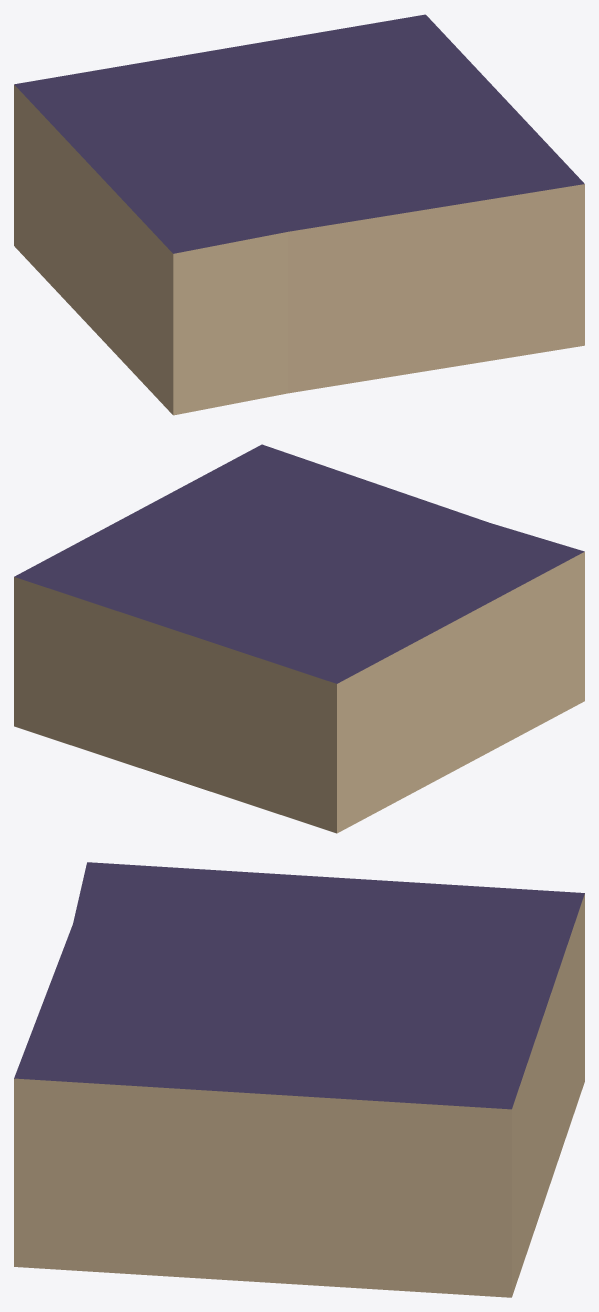
3 renders of one model, top to bottom at view 1: azimuth 30°, elevation 25°; view 2: azimuth 150°, elevation 25°; view 3: azimuth 270°, elevation 25°, orthographic. The views are drawn at different scales.
Visible parts, largest first — view 1: campus/b-020-0; view 2: campus/b-020-0; view 3: campus/b-020-0.
Part boxes in pixels (x1=…): campus/b-020-0: x1=14, y1=14, x2=584, y2=415; campus/b-020-0: x1=14, y1=444, x2=584, y2=833; campus/b-020-0: x1=14, y1=862, x2=584, y2=1297.
Size of the model in its own units: 8.73 by 3.1 by 8.52.
